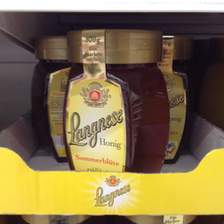honey: (64, 29, 171, 174)
